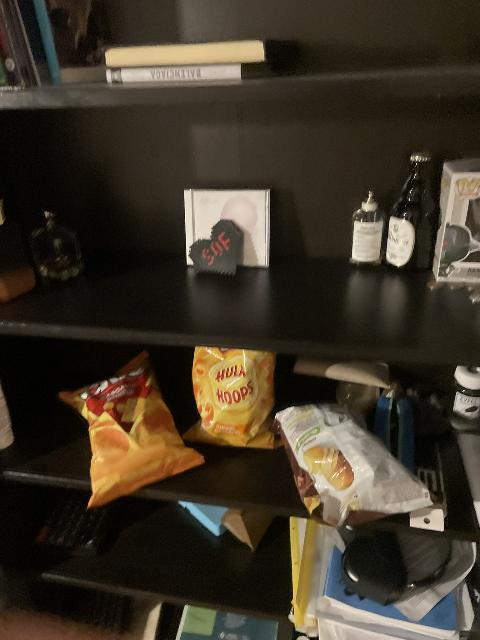Chio Cascaval 125g: (61, 352, 209, 509)
Chio Hula Hoops Cheese 70g: (188, 347, 280, 447)
Lays Beef Grilled Ribs 125g: (271, 397, 436, 529)
